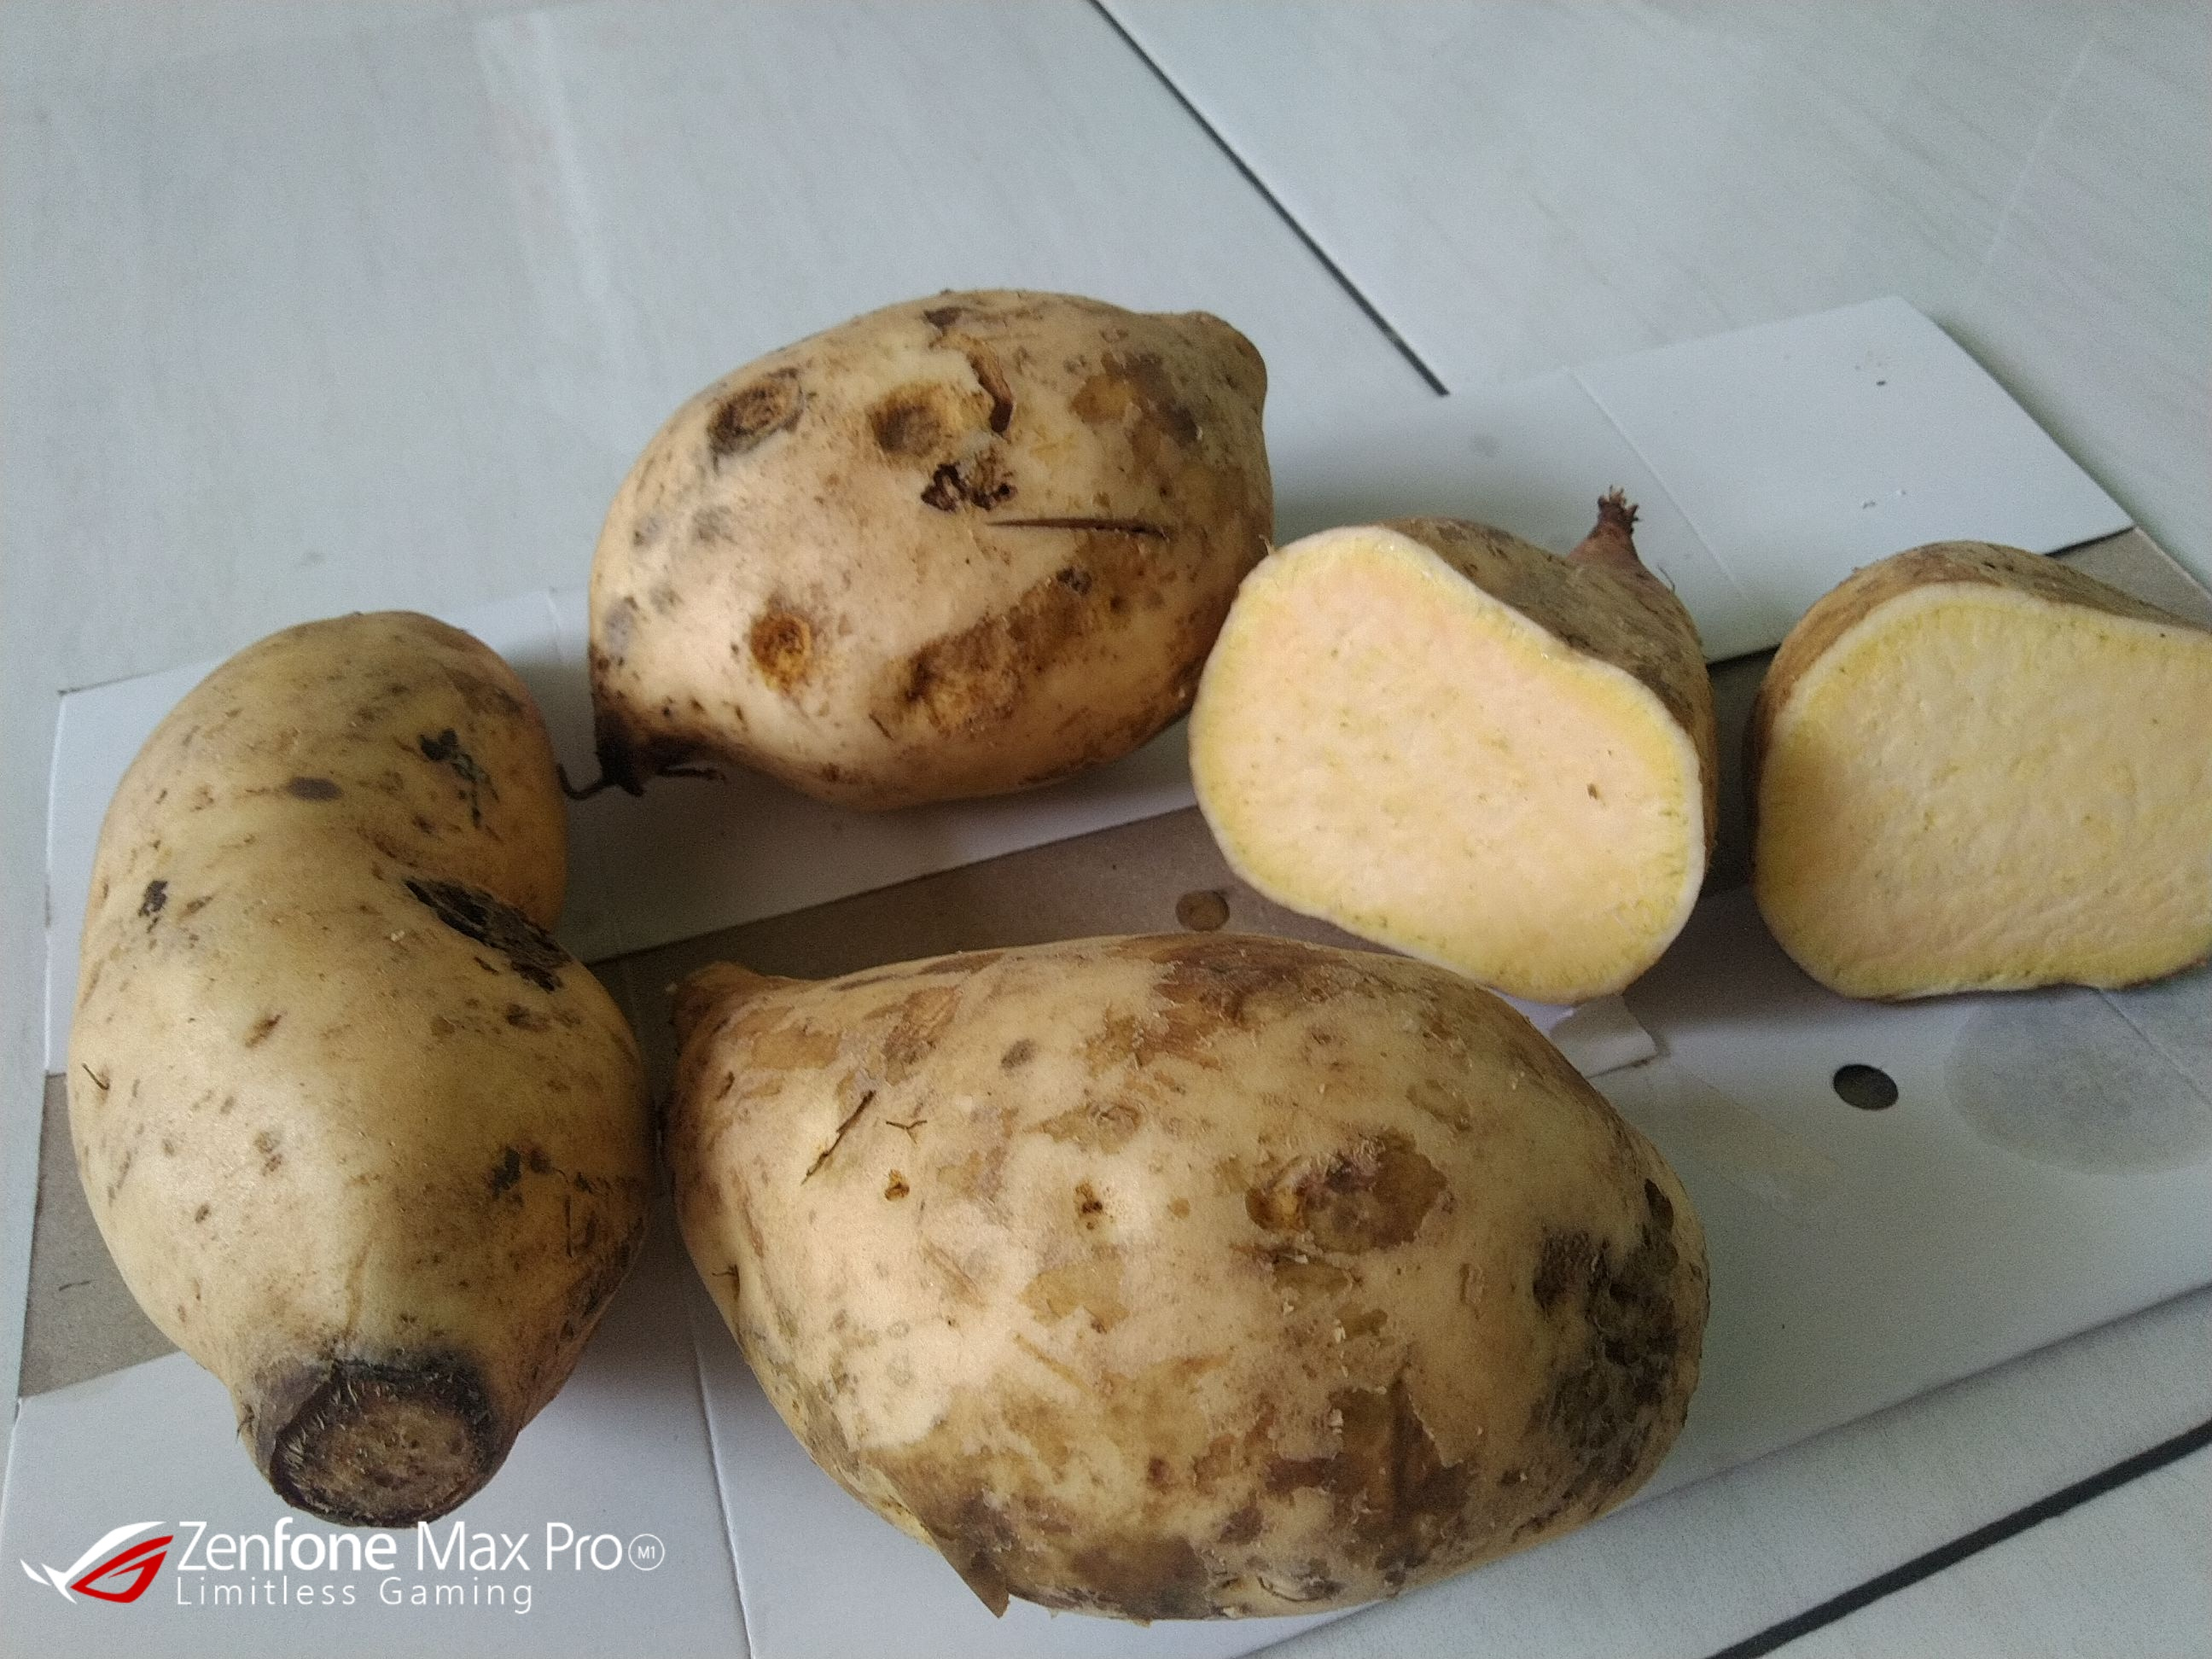ubi kuning: (637, 925, 1730, 1610), (47, 603, 657, 1527), (590, 268, 1277, 805), (1174, 476, 1757, 1021), (1745, 540, 2212, 993)
